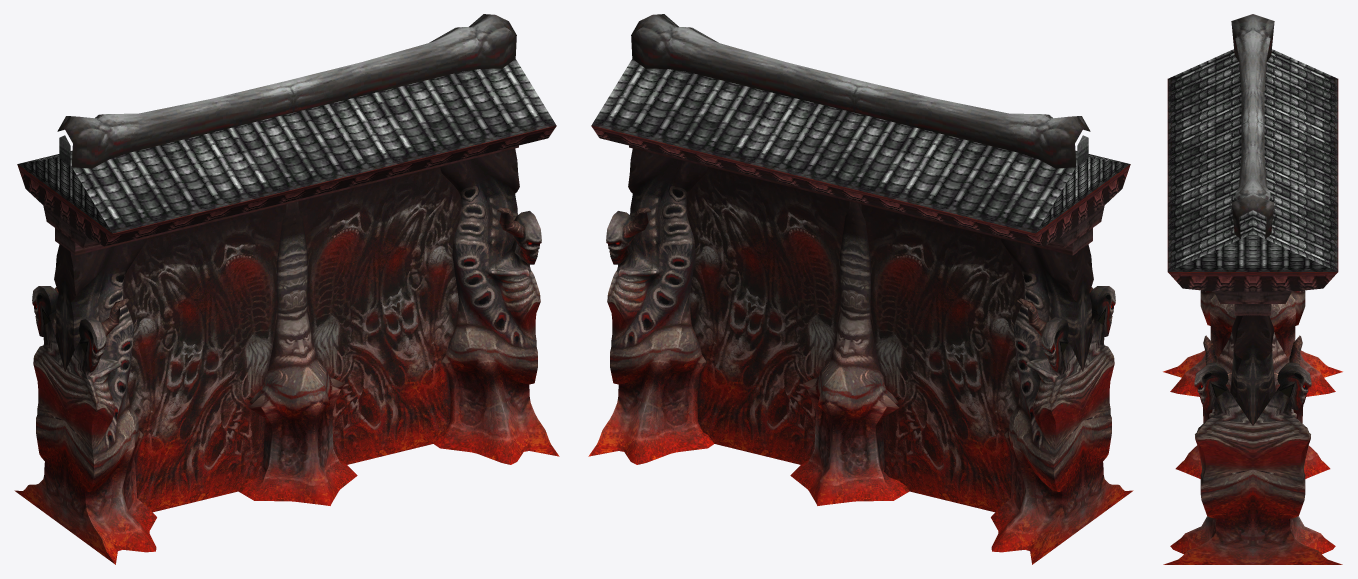
The model's file is otherworld_wall_01.glb.
3 views of the same model, side by side, from view 1: azimuth 30°, elevation 25°; view 2: azimuth 150°, elevation 25°; view 3: azimuth 270°, elevation 25° (orthographic). The views are drawn at different scales.
Visible parts, largest first — view 1: otherworld_wall_01; view 2: otherworld_wall_01; view 3: otherworld_wall_01.
Part boxes in pixels (x1=…): otherworld_wall_01: x1=14, y1=14, x2=559, y2=564; otherworld_wall_01: x1=588, y1=14, x2=1133, y2=564; otherworld_wall_01: x1=1163, y1=14, x2=1342, y2=564.
Size of the model in its own units: 10.01 by 8.8 by 3.96.
Materials: 4 (4 with a texture image).
